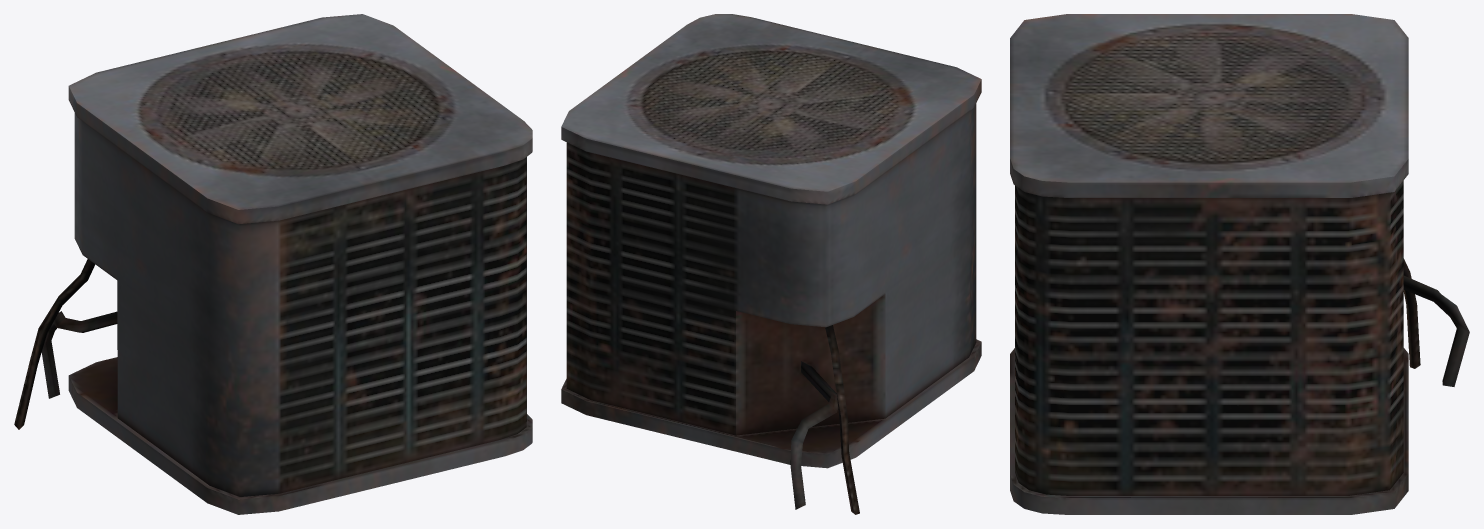
The model's file is Vertical_ExteriorUnit_S.FBX.
The picture shows the model from 3 angles, left to right: view 1: azimuth 30°, elevation 25°; view 2: azimuth 150°, elevation 25°; view 3: azimuth 270°, elevation 25°; orthographic projection. The views are drawn at different scales.
Parts seen in each view (by area): view 1: Vertical_ExteriorUnit_S; view 2: Vertical_ExteriorUnit_S; view 3: Vertical_ExteriorUnit_S.
Part boxes in pixels (<box>): Vertical_ExteriorUnit_S: <box>14,14,532,514</box>; Vertical_ExteriorUnit_S: <box>561,14,981,514</box>; Vertical_ExteriorUnit_S: <box>1010,14,1469,514</box>.
Size of the model in its own units: 104 by 97.24 by 110.
